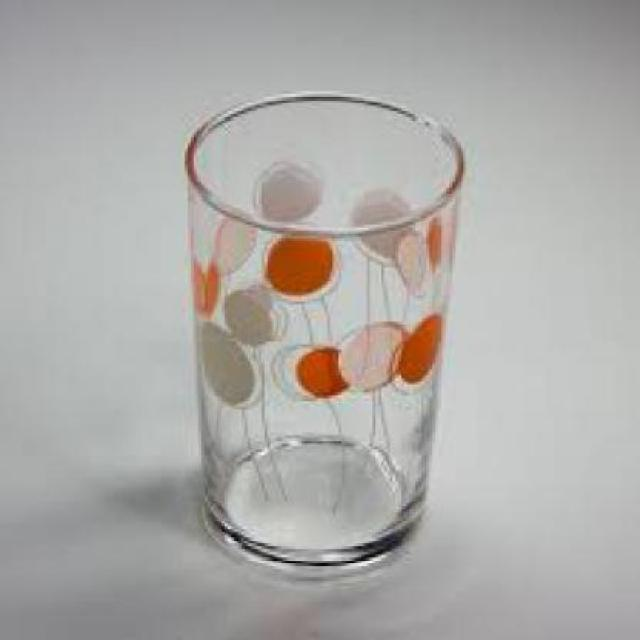kaca: (183, 91, 462, 575)
